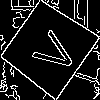V: (24, 23, 81, 78)
